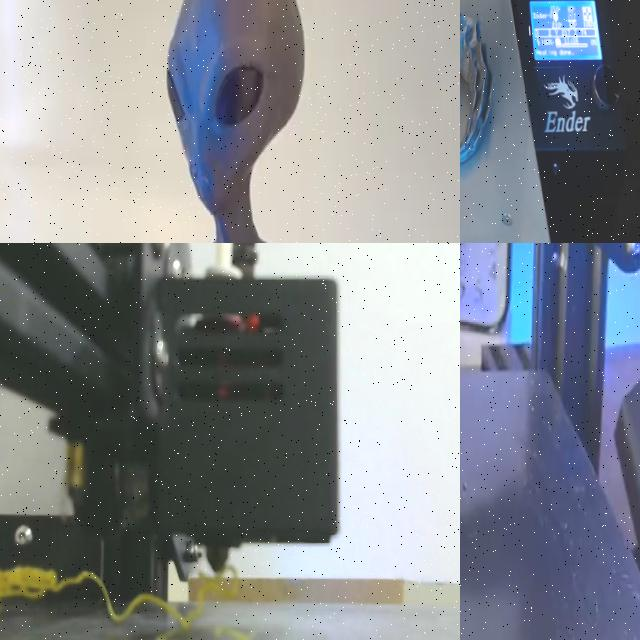spaghetti: (0, 569, 239, 630)
